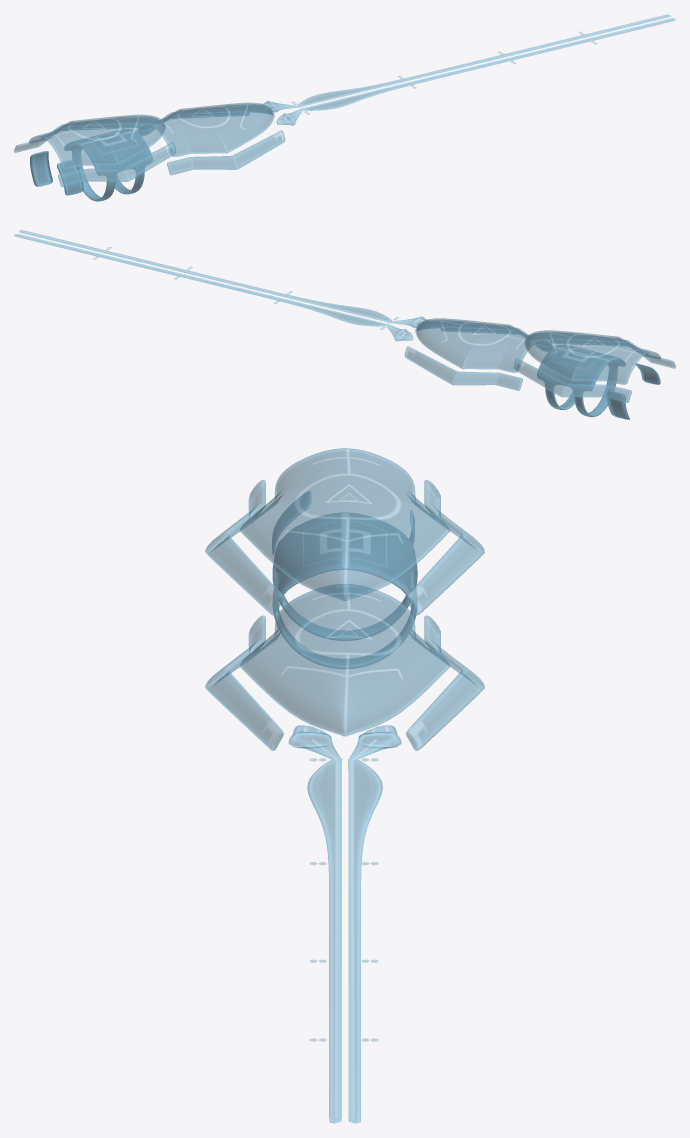
File: aRMbLADE2.fbx
3 views of the same model, one above another, from view 1: azimuth 30°, elevation 25°; view 2: azimuth 150°, elevation 25°; view 3: azimuth 270°, elevation 25° (orthographic). The views are drawn at different scales.
Parts seen in each view (by area): view 1: shield, bracelet.001, bracelet; view 2: shield, bracelet.001, bracelet; view 3: shield, bracelet.001.
Boxes of the visible parts, x1,y1,x2,y2 form: shield: (136,14,675,175); bracelet.001: (14,114,176,201); bracelet: (30,148,150,201); shield: (14,230,553,390); bracelet.001: (513,330,675,419); bracelet: (539,364,660,419); shield: (205,584,484,1123); bracelet.001: (205,448,484,620).
Size of the model in its own units: 321 by 34.63 by 61.19.
